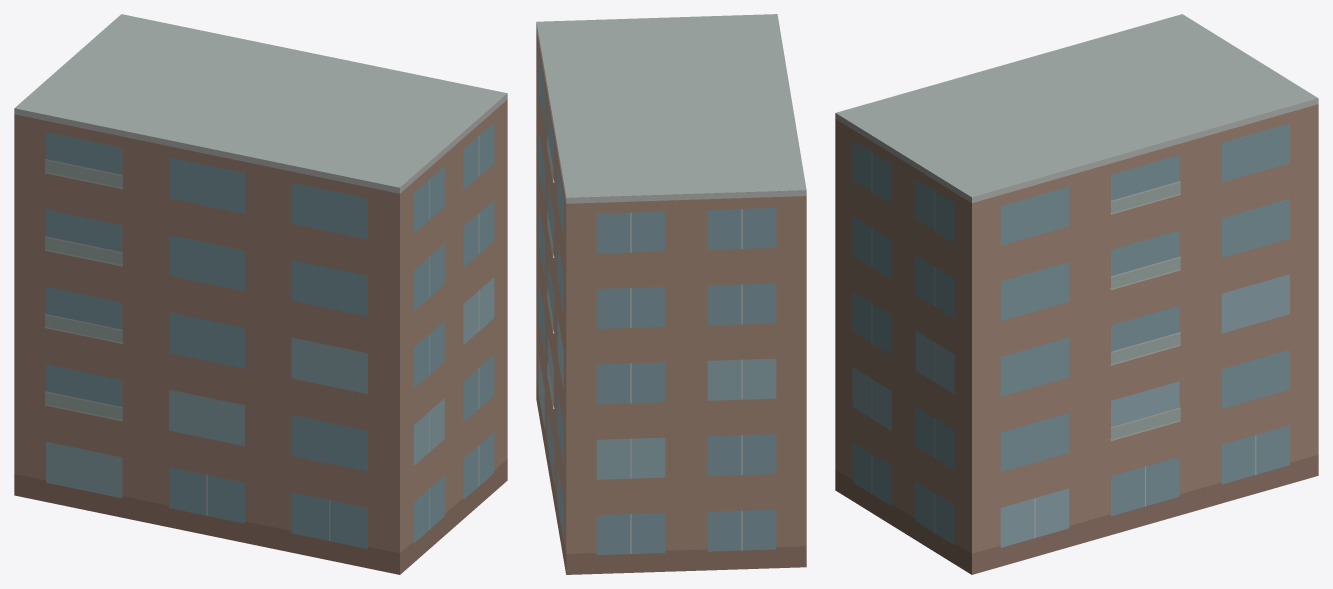
File: survey-upis-32591645.glb
3 views of the same model, side by side, from view 1: azimuth 30°, elevation 25°; view 2: azimuth 150°, elevation 25°; view 3: azimuth 270°, elevation 25° (orthographic). The views are drawn at different scales.
Visible parts, largest first — view 1: survey-upis-32591645.tmp; view 2: survey-upis-32591645.tmp; view 3: survey-upis-32591645.tmp.
Part boxes in pixels (left/top/right/bottom): survey-upis-32591645.tmp: left=14, top=14, right=507, bottom=574; survey-upis-32591645.tmp: left=536, top=14, right=806, bottom=574; survey-upis-32591645.tmp: left=835, top=14, right=1318, bottom=574.
Size of the model in its own units: 16.37 by 15.7 by 18.22.
